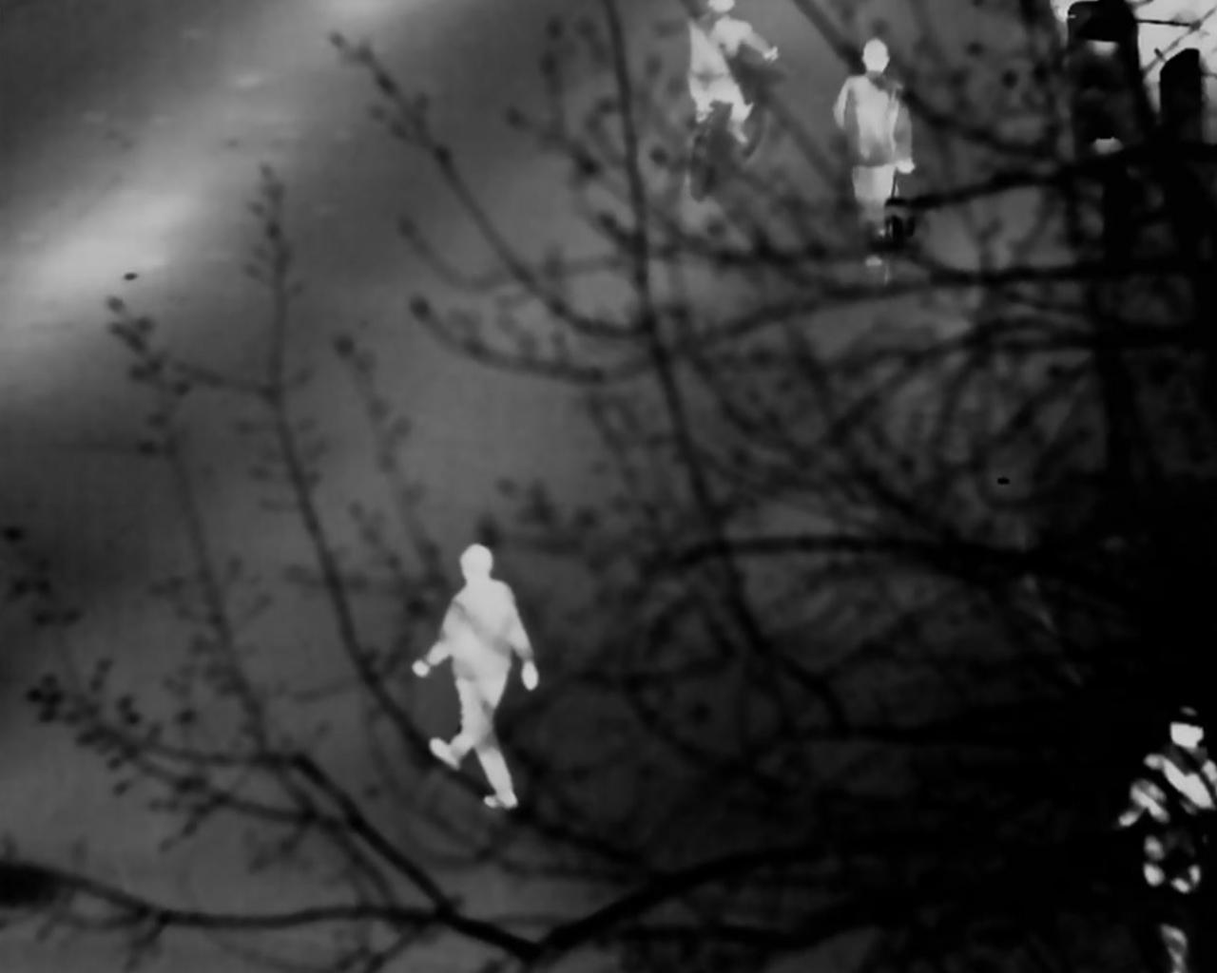person: (419, 541, 538, 815), (1126, 700, 1213, 927), (841, 31, 923, 249)
